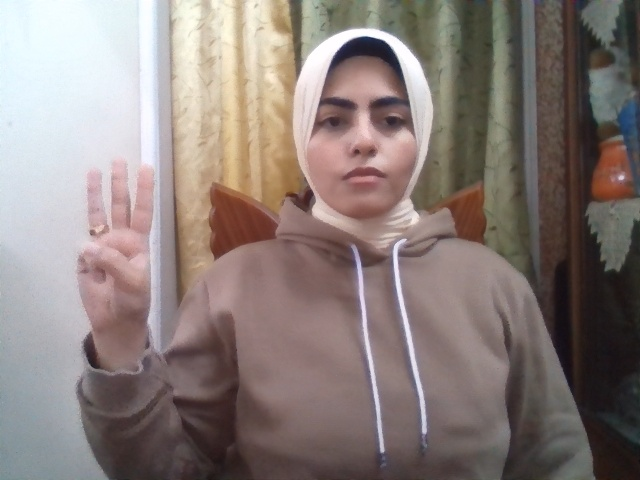W: (75, 156, 155, 332)
